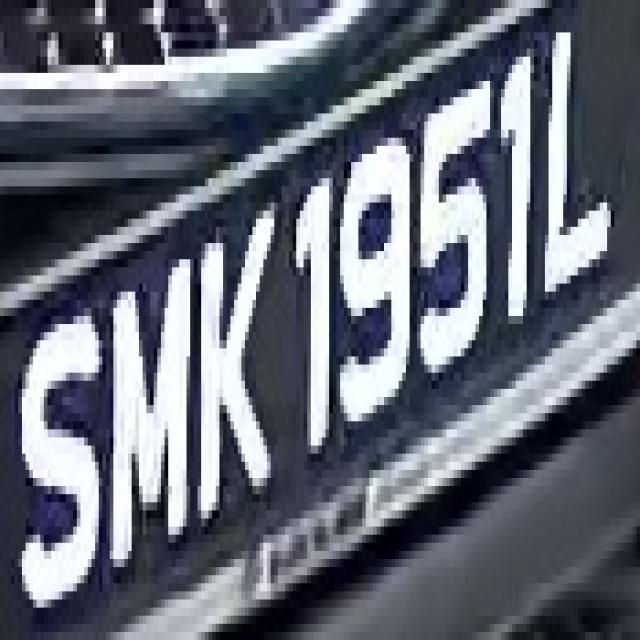1: (494, 41, 545, 364), (289, 154, 336, 470)
5: (413, 73, 490, 405)
9: (326, 146, 420, 445)
K: (201, 218, 285, 534)
L: (548, 24, 614, 292)
M: (102, 243, 194, 583)
S: (15, 308, 106, 607)
